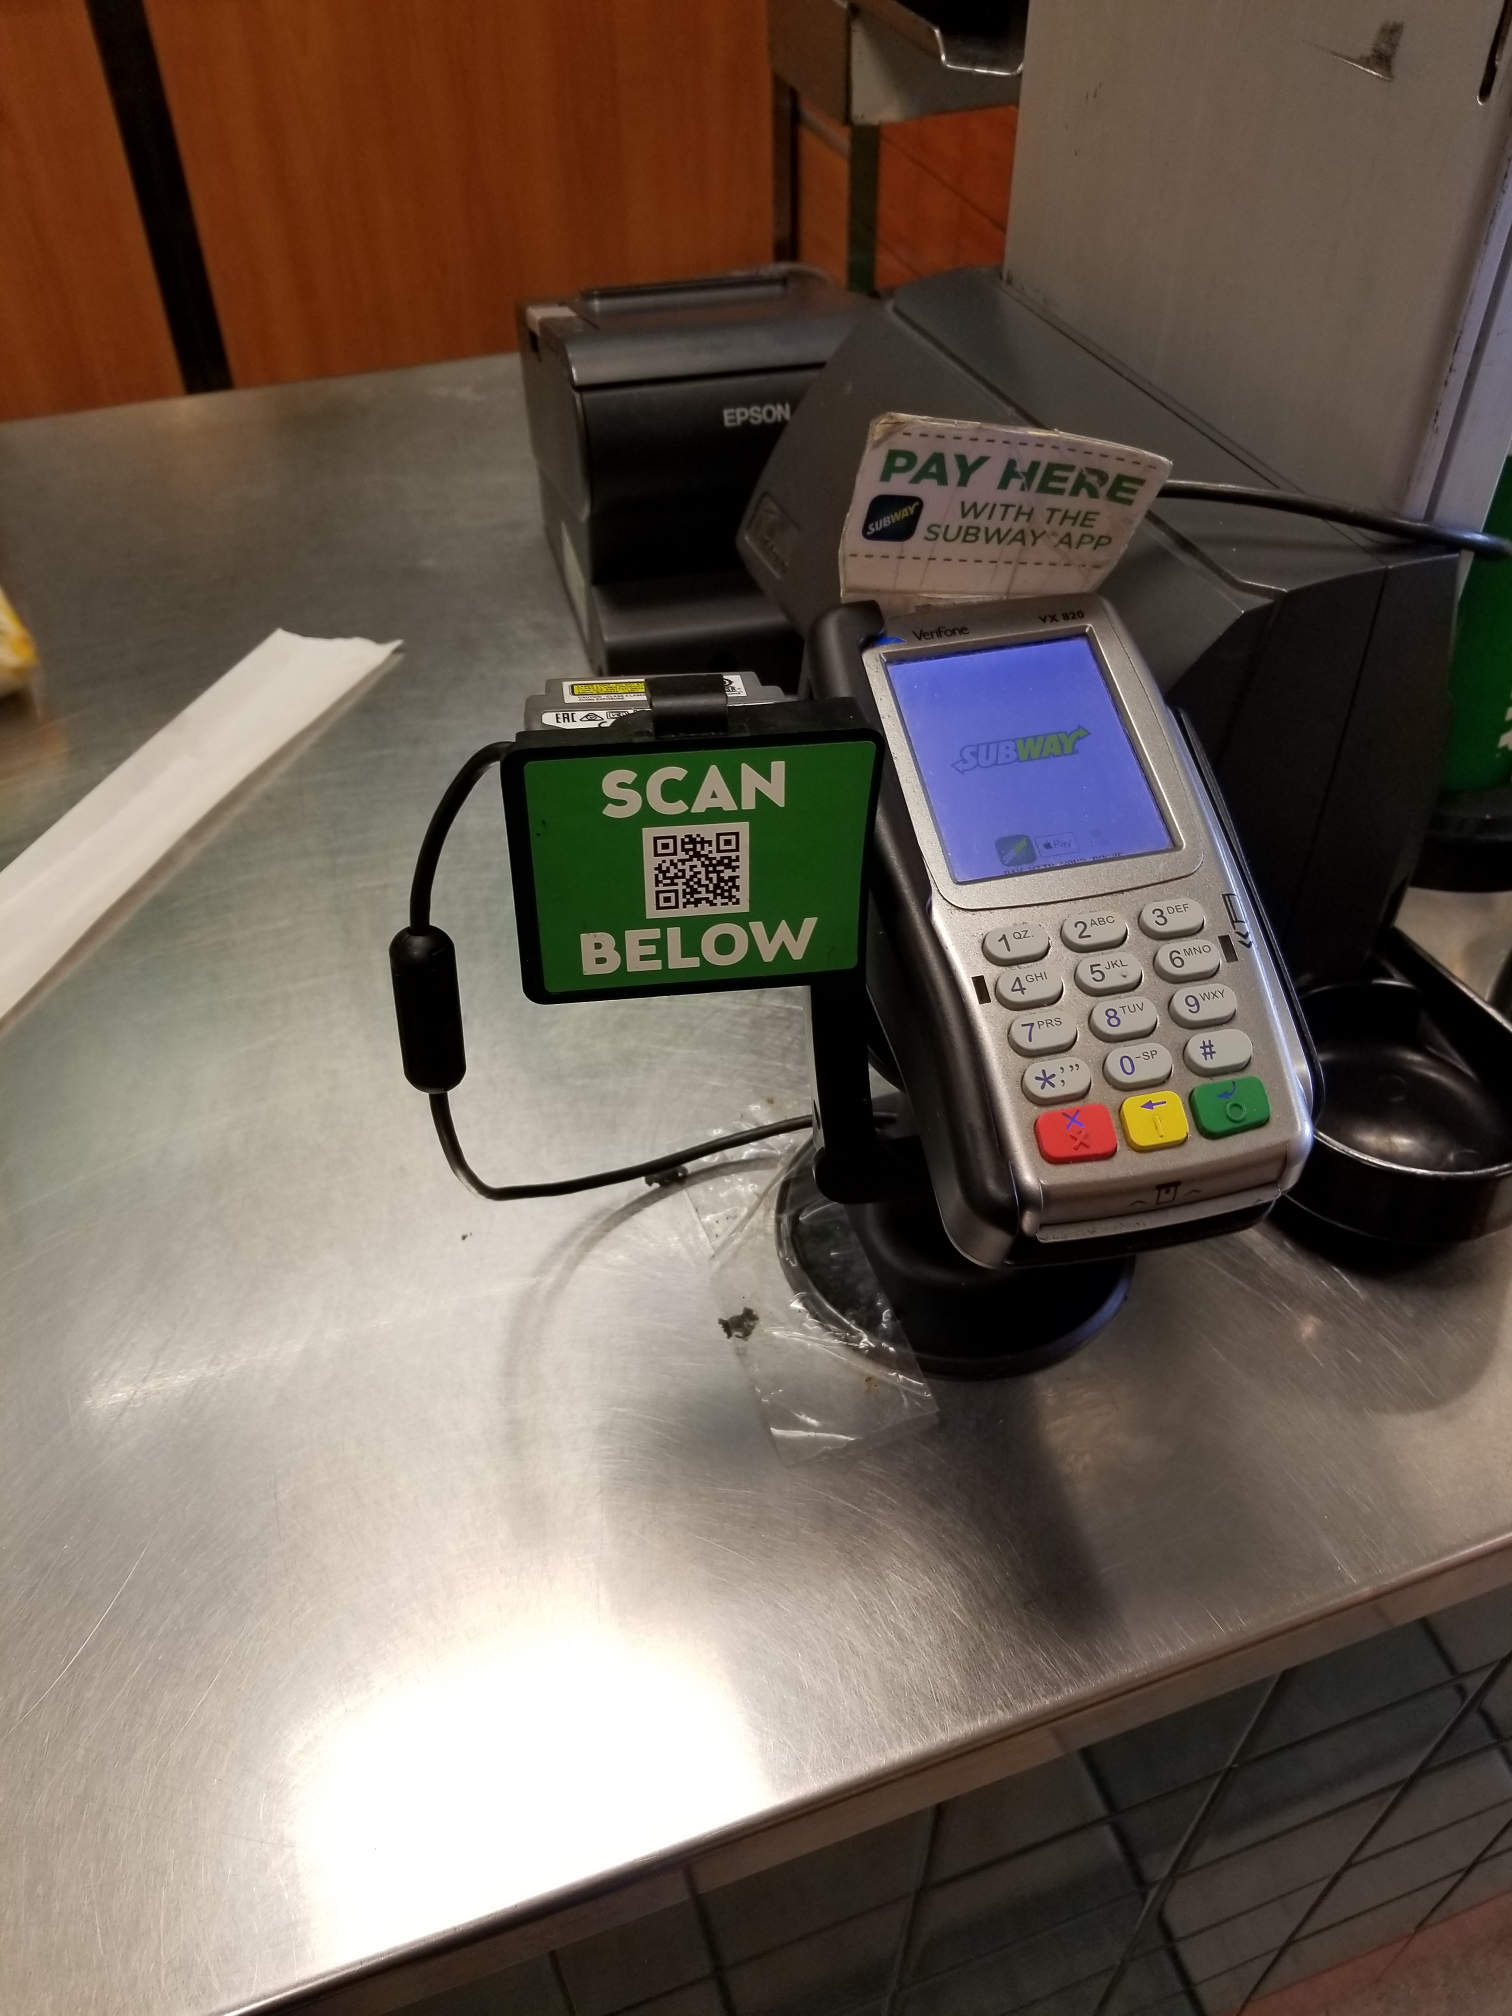QR_CODE: (631, 810, 766, 929)
